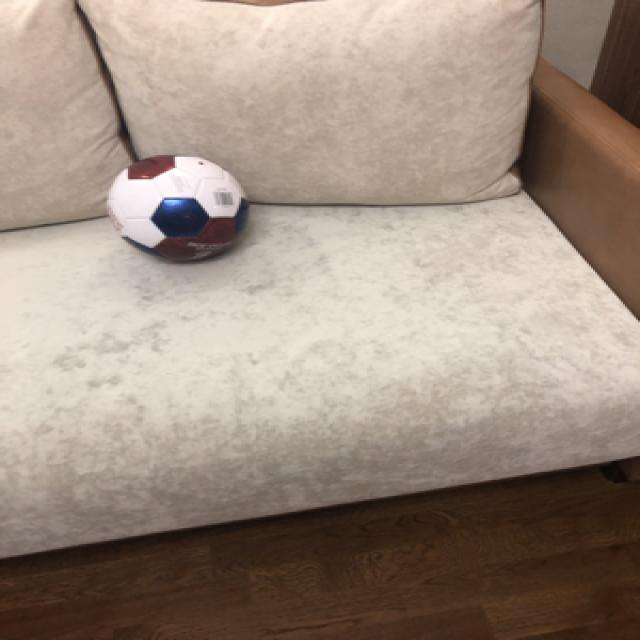soccer_ball: (100, 150, 250, 264)
